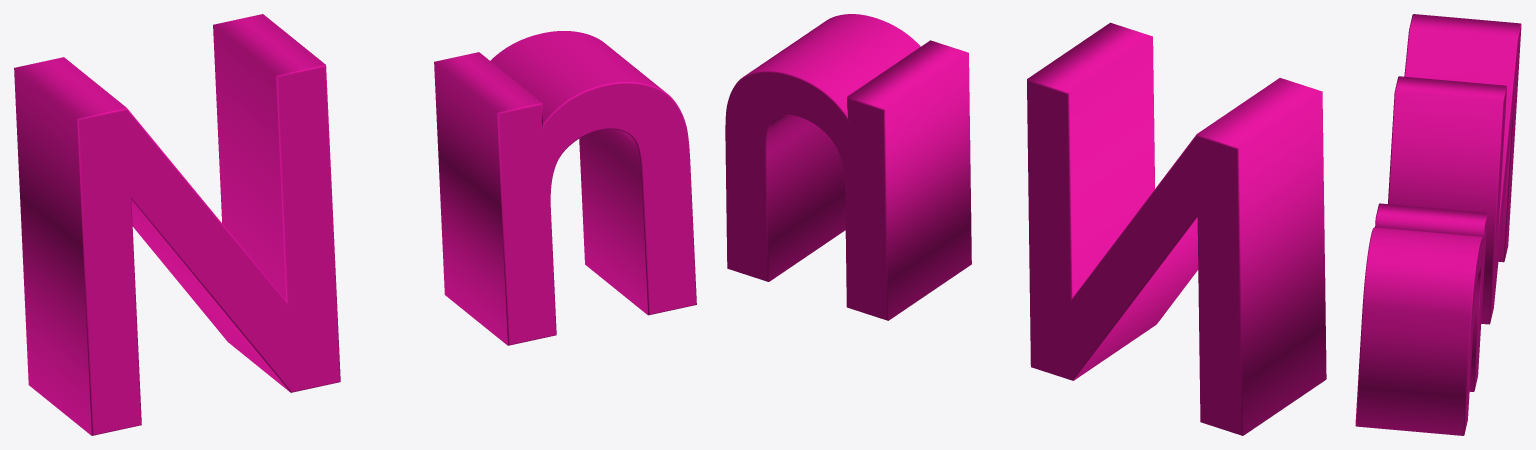
Rendered from ObjectN.fbx.
The picture shows the model from 3 angles, left to right: view 1: azimuth 30°, elevation 25°; view 2: azimuth 150°, elevation 25°; view 3: azimuth 270°, elevation 25°; orthographic projection. The views are drawn at different scales.
Parts seen in each view (by area): view 1: Text; view 2: Text; view 3: Text.
Part boxes in pixels (box(x1,y1,x2,y2)): Text: box(14, 14, 696, 435); Text: box(725, 14, 1326, 435); Text: box(1355, 14, 1521, 435).
Size of the model in its own units: 272 by 142 by 92.9.
